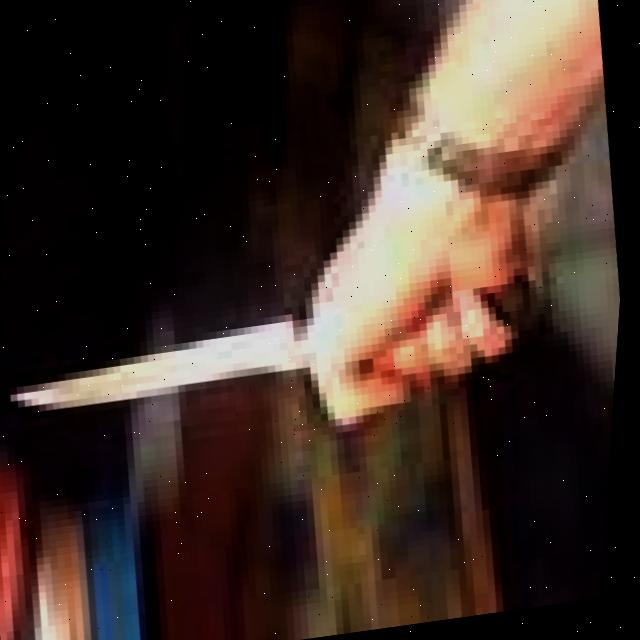knife: (2, 310, 317, 423)
